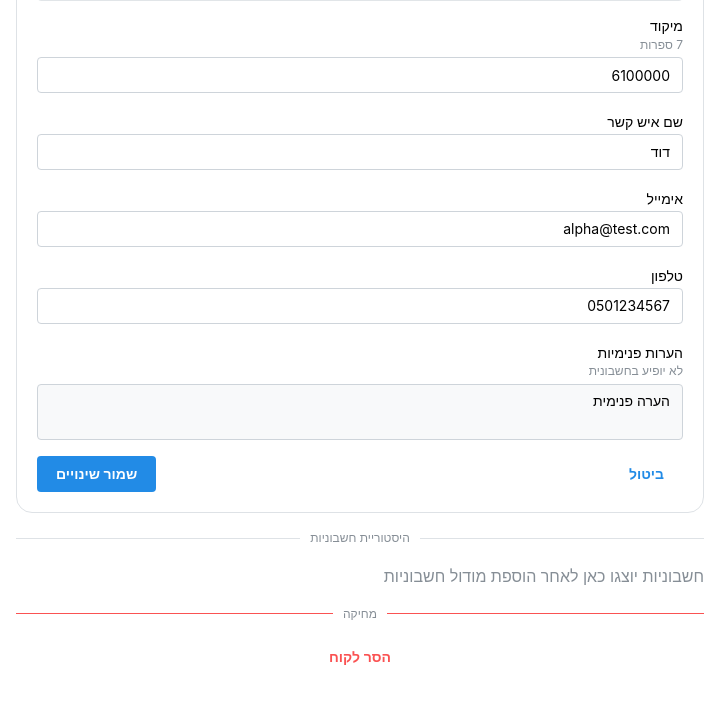
Test: CustomerDetail page › shows duplicate taxId inline error with link on edit
(page scrolled)
Click the button "שמור שינויים": [97, 474] box [37, 456, 156, 492]
(page scrolled)
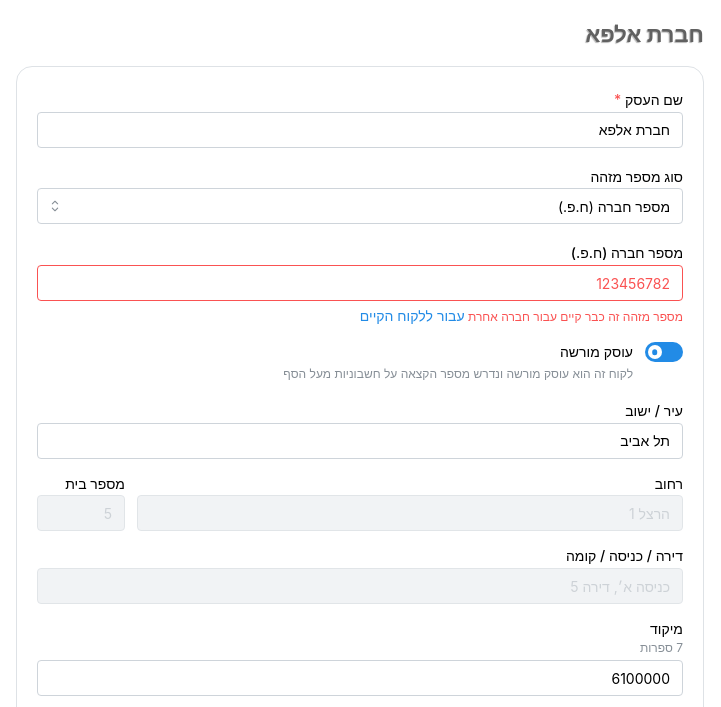
Expected: the text "מספר מזהה זה כבר קיים עבור חברה אחרת עבור ללקוח הקיים" is shown, [360, 307, 683, 324]
